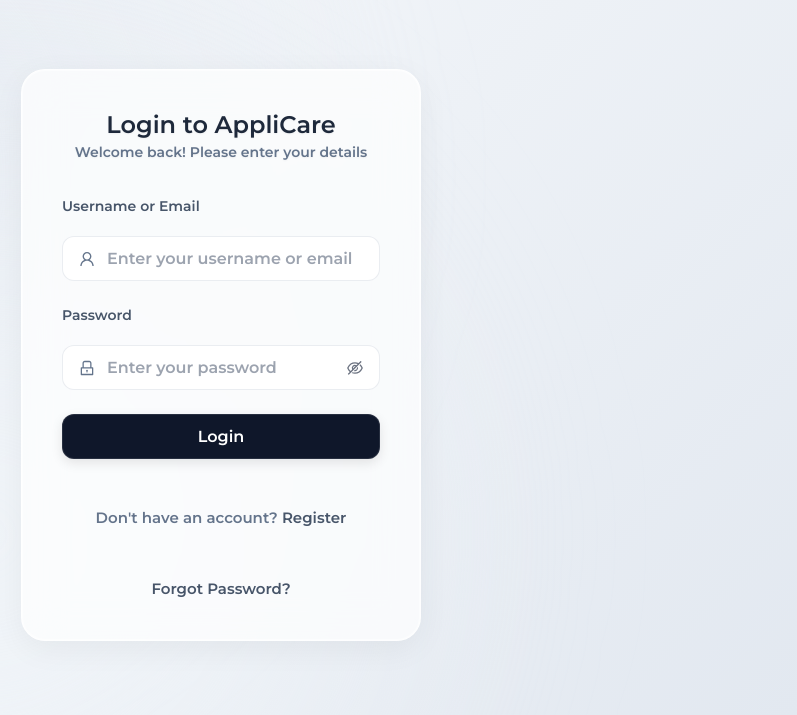
Test: AppliCare Frontend Tests › Login form shows validation errors for empty fields
Click the button "Login". click: (221, 437)
box: [62,414,380,459]
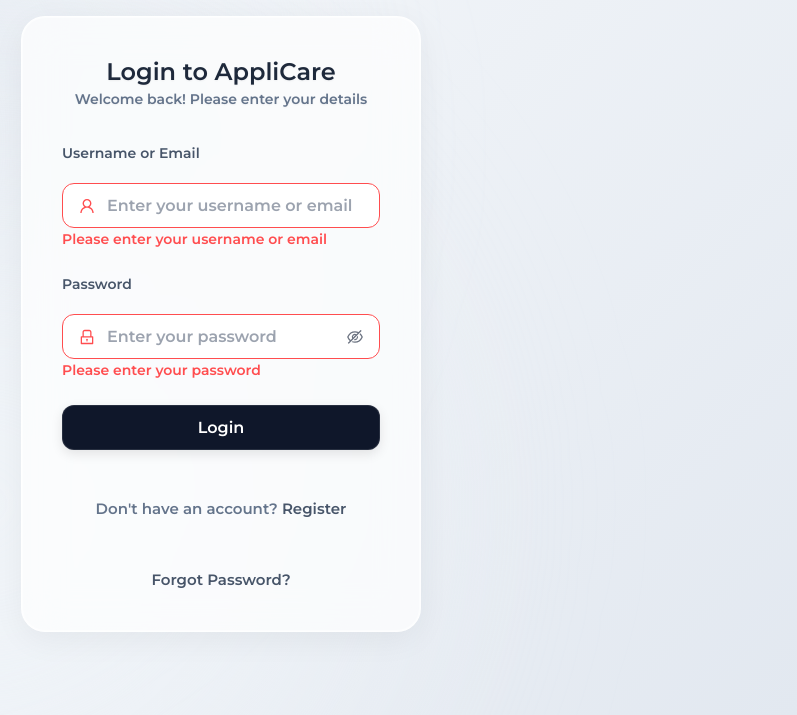
Now the text "Please enter your username or email" is shown, box [62,230,327,248]
Now the text "Please enter your password" is shown, box [62,361,261,379]
